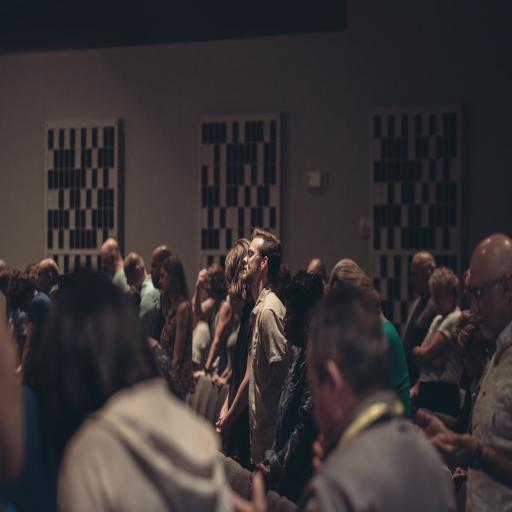face: (470, 263, 499, 339), (240, 239, 260, 284), (156, 267, 168, 295), (148, 255, 158, 287), (34, 268, 45, 292)
